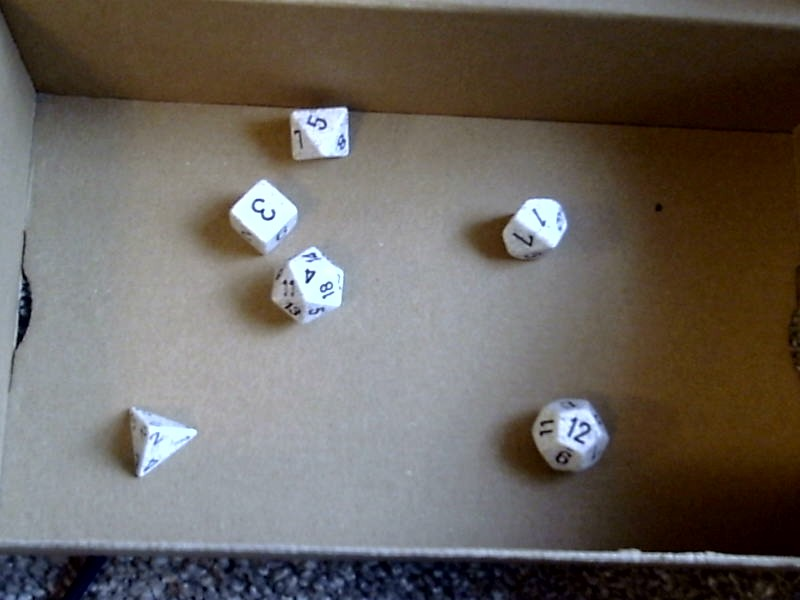d10 1: (493, 194, 572, 265)
d12 12: (523, 388, 619, 486)
d20 4: (269, 245, 353, 328)
d4 2: (116, 402, 199, 486)
d6 3: (223, 173, 300, 254)
d8 5: (283, 104, 354, 164)
